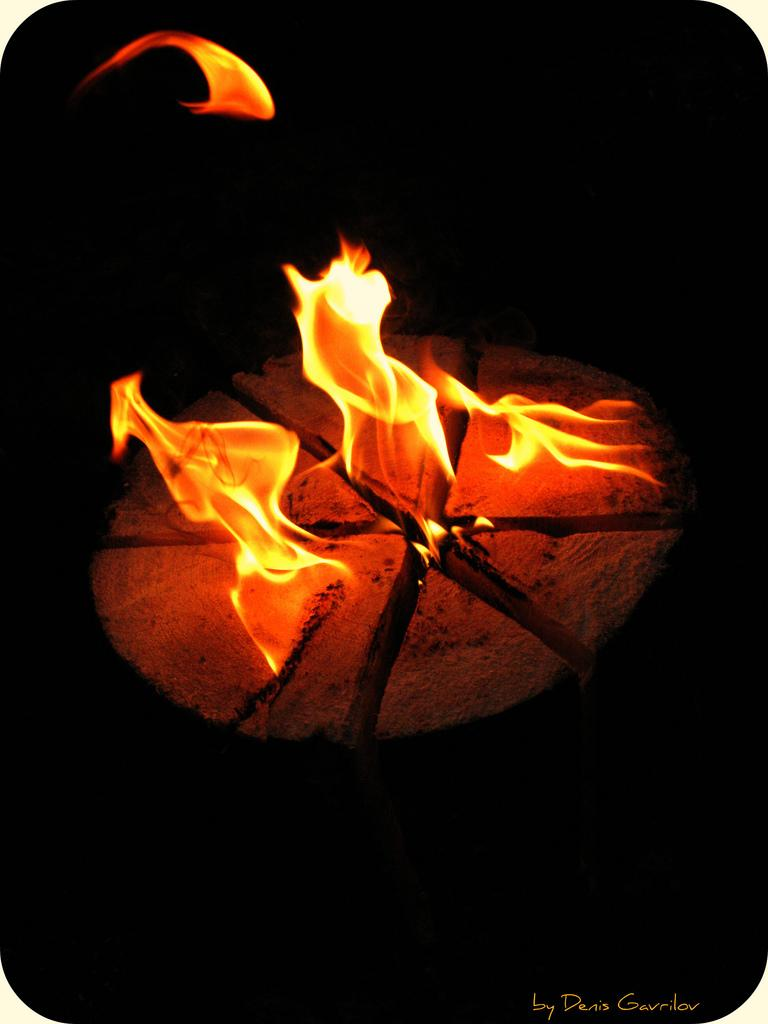fire: (302, 272, 435, 432), (185, 432, 330, 545), (492, 400, 635, 505)
